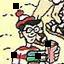waldo: (15, 9, 41, 44)
